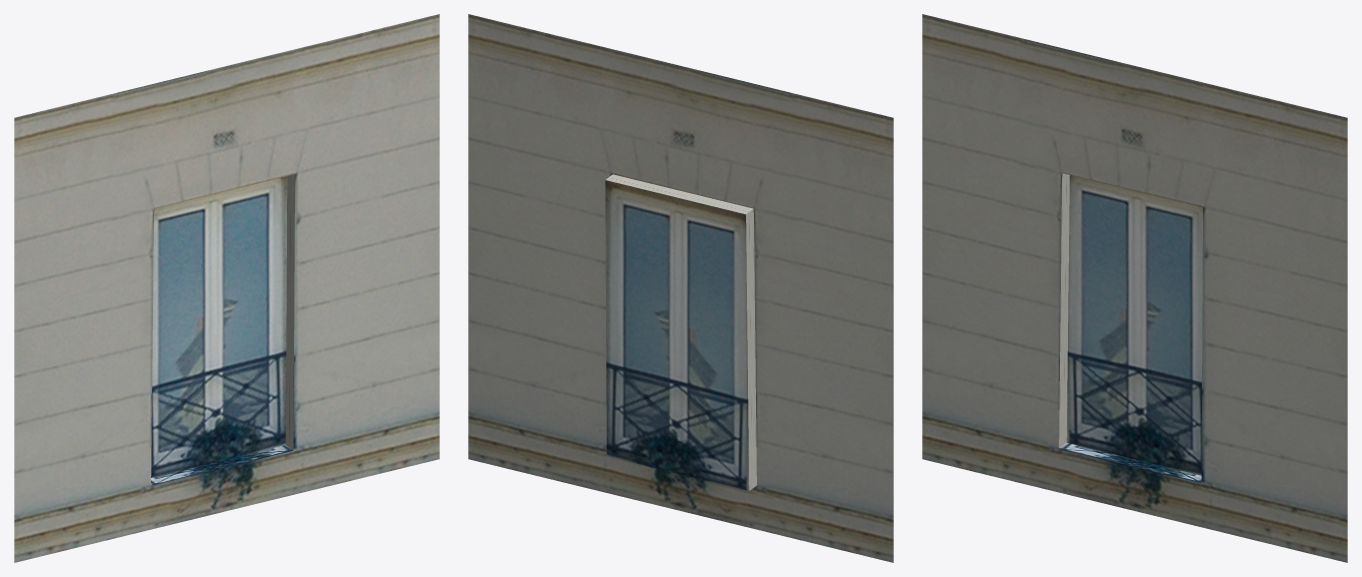
Rendered from Wall1Tiled.fbx.
3 views of the same model, side by side, from view 1: azimuth 30°, elevation 25°; view 2: azimuth 150°, elevation 25°; view 3: azimuth 330°, elevation 25° (orthographic).
Parts seen in each view (by area): view 1: cube; view 2: cube; view 3: cube.
Part boxes in pixels (bbox=[...]): cube: bbox=[14, 14, 439, 562]; cube: bbox=[468, 14, 893, 562]; cube: bbox=[922, 14, 1347, 562].
Size of the model in its own units: 10 by 10 by 0.3143.
Materials: 1 (1 with a texture image).
